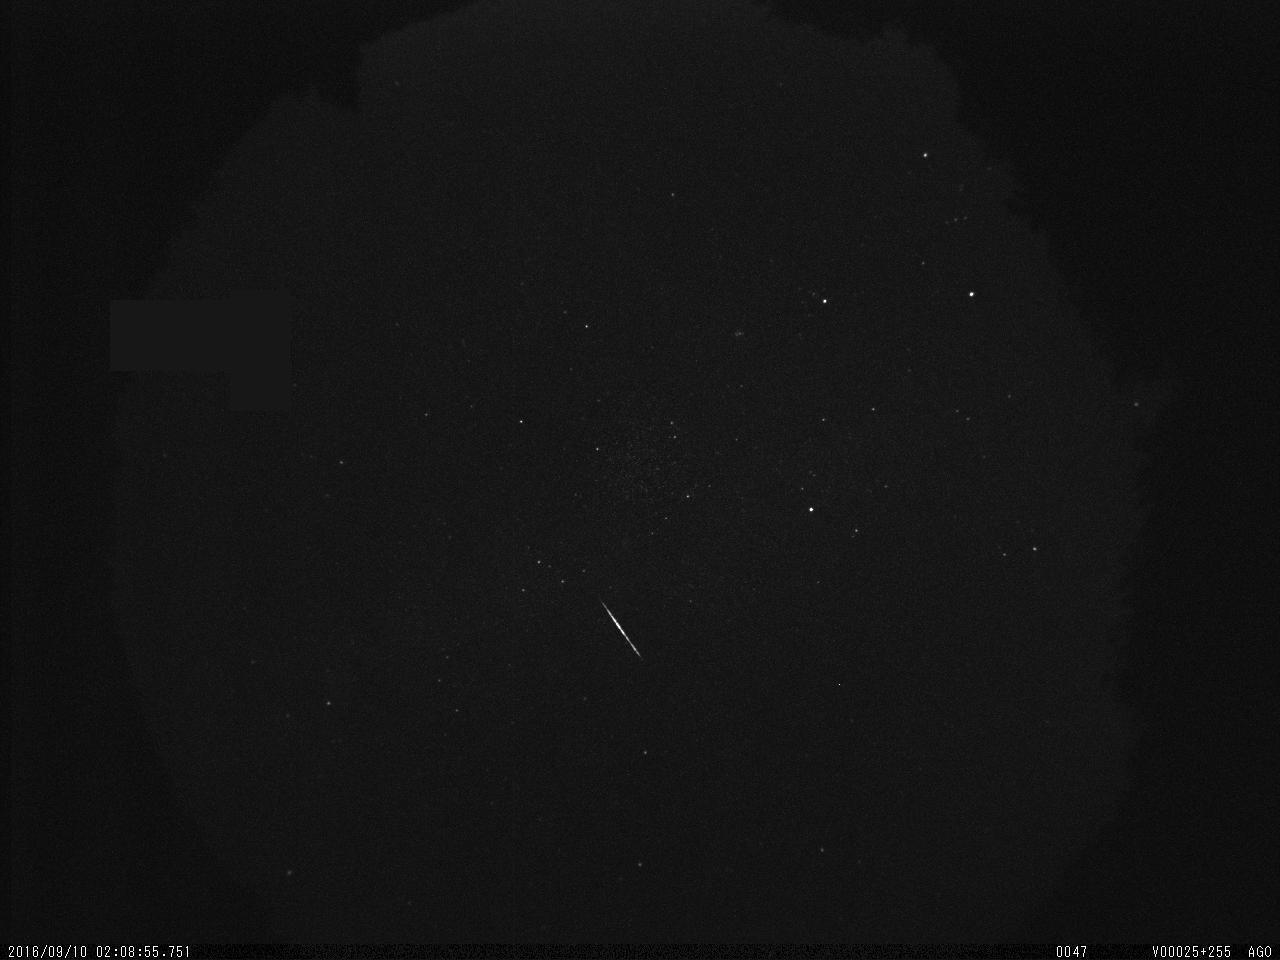meteor: (575, 589, 665, 674)
